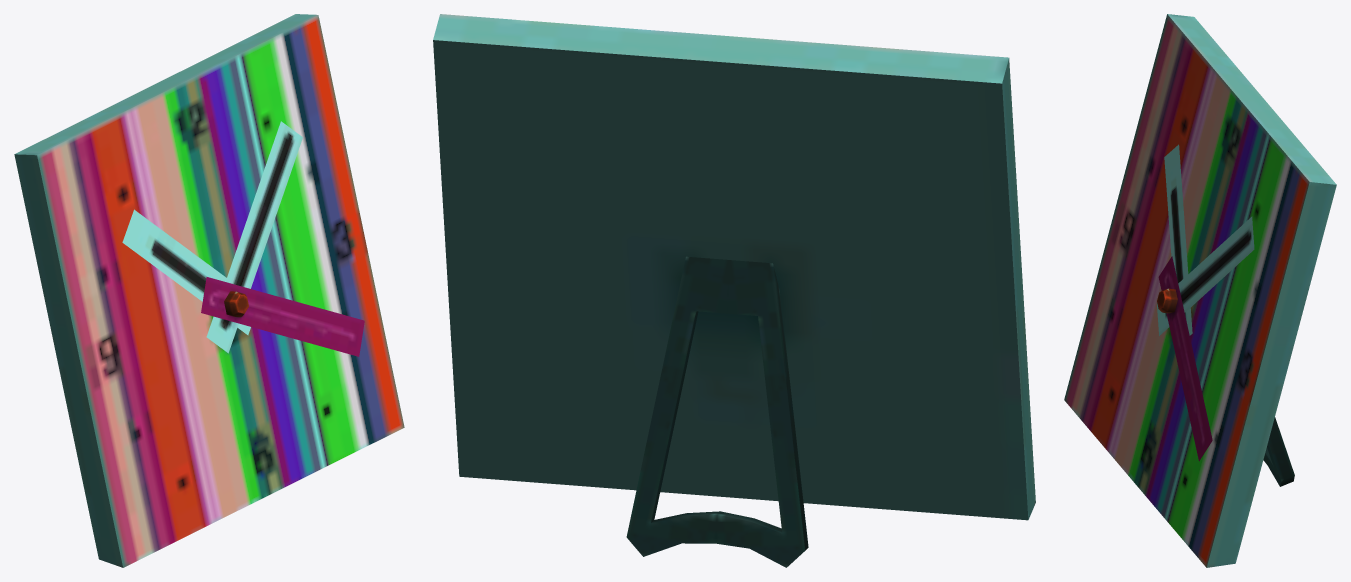
File: furni_0200625_03.FBX
The picture shows the model from 3 angles, left to right: view 1: azimuth 30°, elevation 25°; view 2: azimuth 150°, elevation 25°; view 3: azimuth 270°, elevation 25°; orthographic projection. The views are drawn at different scales.
Visible parts, largest first — view 1: furni_0200625_03; view 2: furni_0200625_03; view 3: furni_0200625_03.
Boxes of the visible parts, x1,y1,x2,y2 form: furni_0200625_03: (14,14,404,567); furni_0200625_03: (433,14,1035,567); furni_0200625_03: (1064,14,1336,567).
Size of the model in its own units: 31.53 by 29.1 by 19.36.
Materials: 1 (1 with a texture image).
